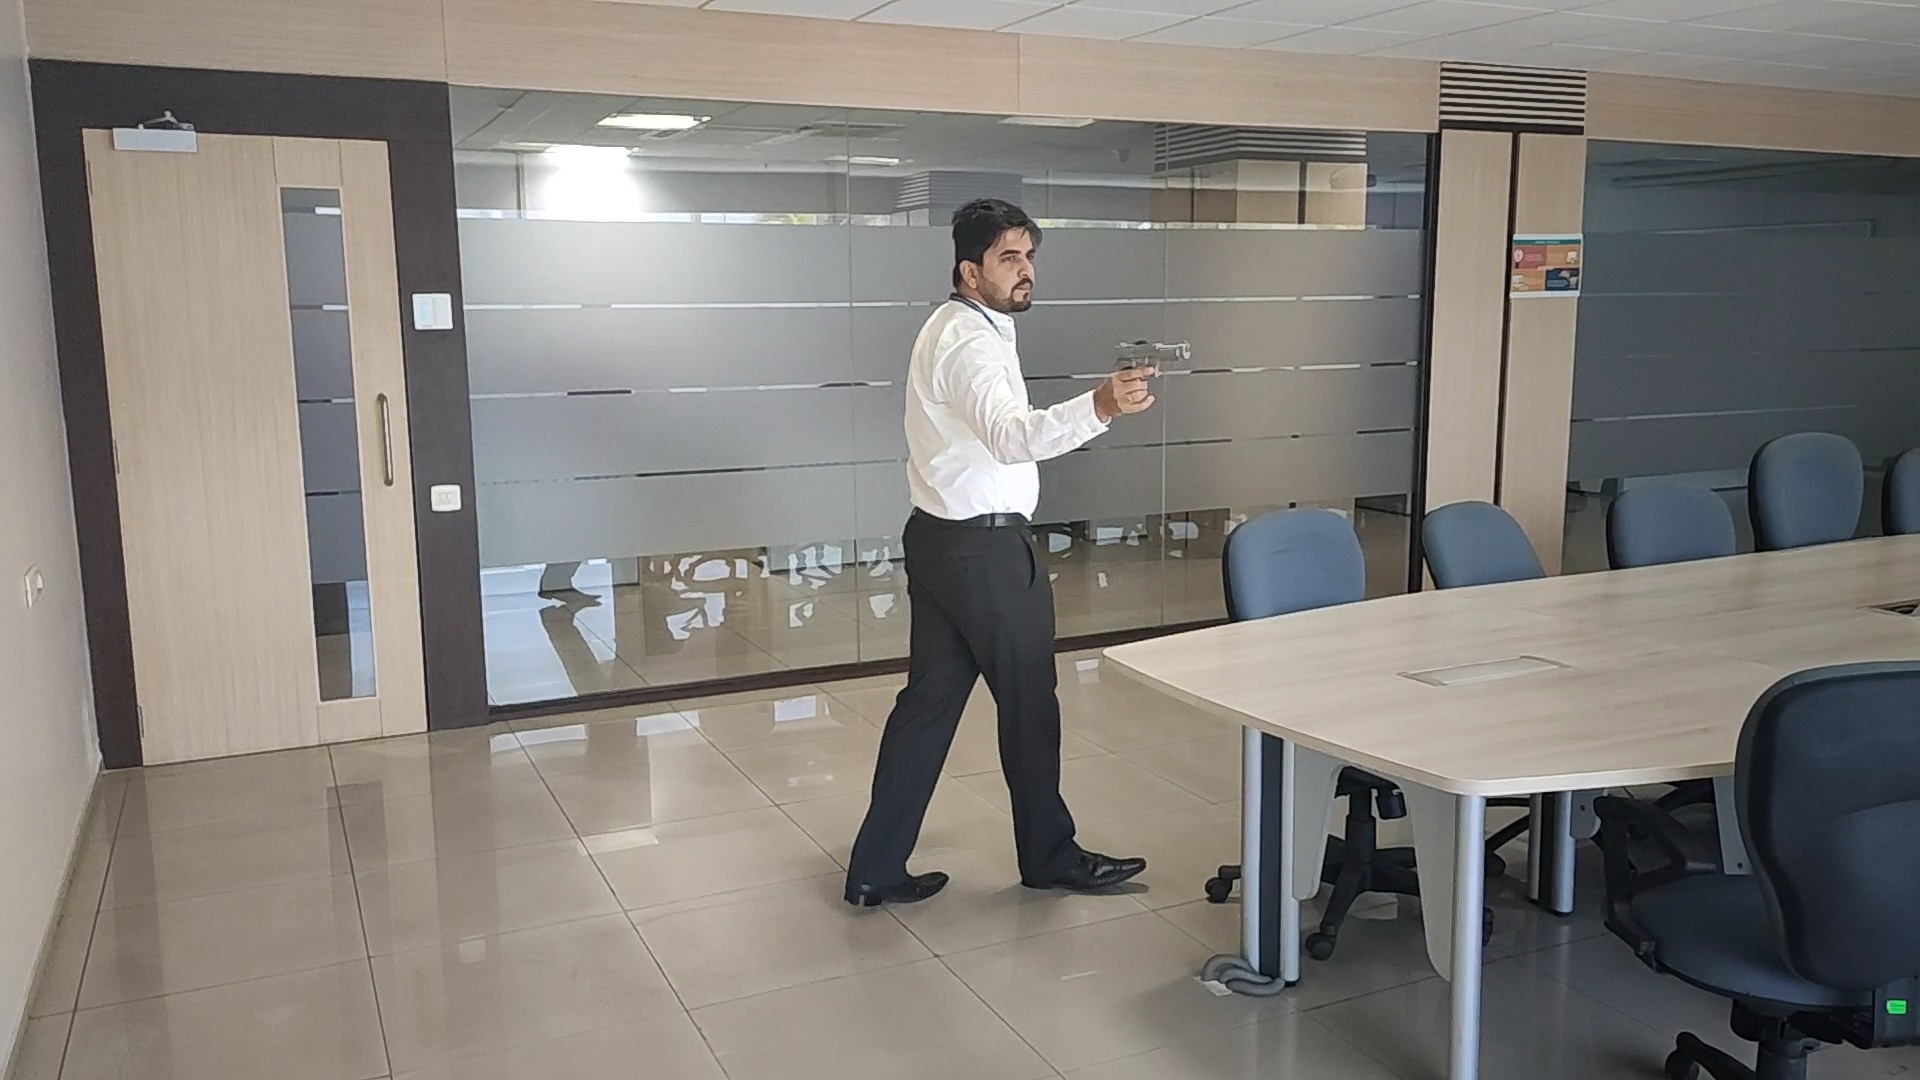gun: (1112, 338, 1189, 378)
